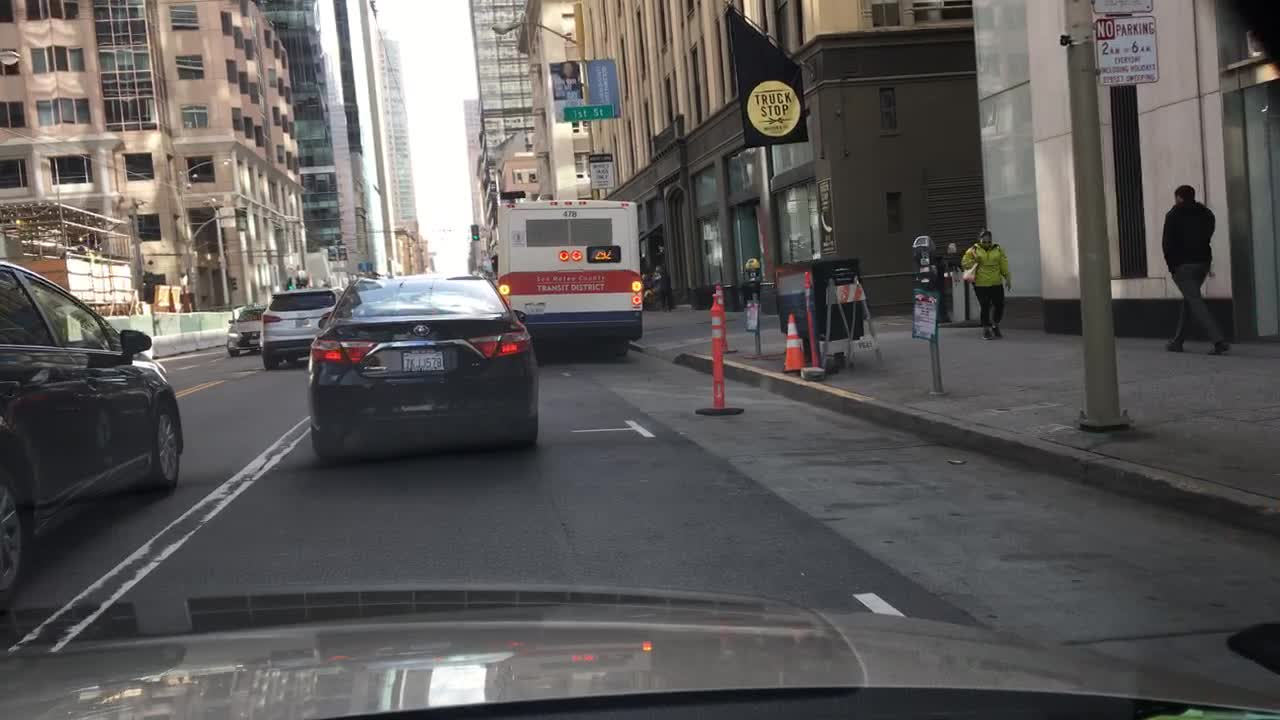bus: (496, 199, 644, 354)
car: (0, 261, 184, 601), (307, 269, 538, 464), (260, 288, 347, 367), (224, 308, 261, 357)
person: (1161, 183, 1228, 354), (958, 231, 1009, 340), (654, 266, 676, 312)
traffic light: (469, 224, 481, 242), (287, 273, 293, 293), (228, 273, 234, 293)
traffic sign: (563, 104, 614, 121)
